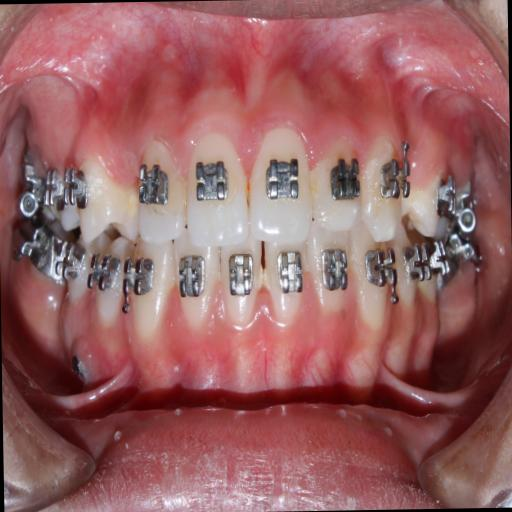correct_brace: (74, 145, 138, 247), (190, 153, 234, 211), (134, 154, 169, 214), (262, 152, 302, 200), (380, 154, 412, 200), (330, 156, 360, 202)
incorrect_brace: (134, 142, 186, 244), (314, 130, 361, 240), (63, 160, 90, 208)
